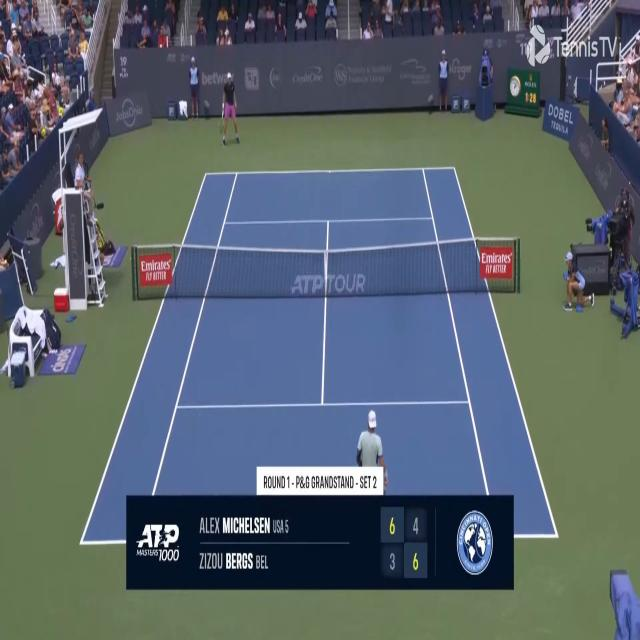tennis-player: (351, 405, 390, 496), (219, 70, 241, 147)
